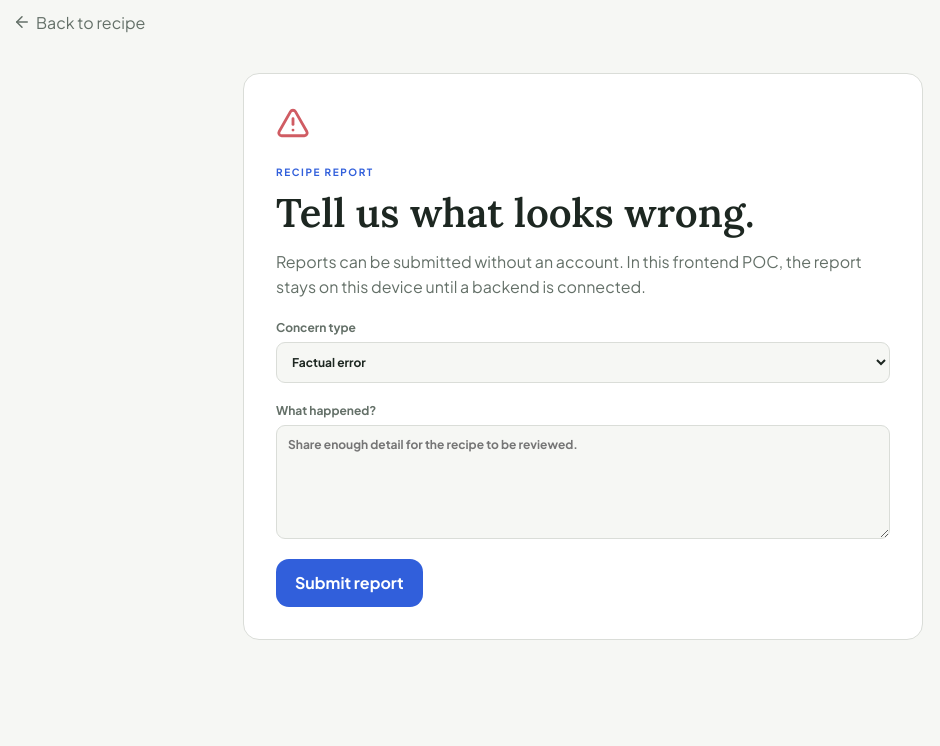
recipe feedback › lets anyone record a factual or safety concern locally
The image size is (940, 746).
Select "Food safety concern" in the dropdown labelled "Concern type" at (583, 362), box [276, 342, 890, 383]
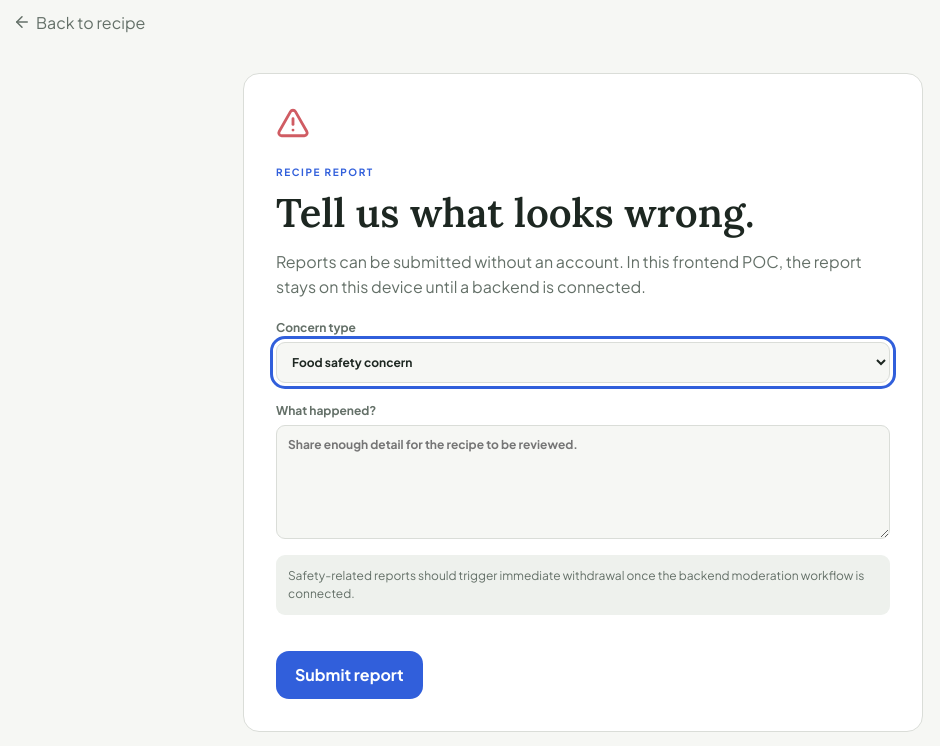
Type "The chicken timing seems too short." into the text box labelled "What happened?" at (583, 482), box [276, 425, 890, 539]
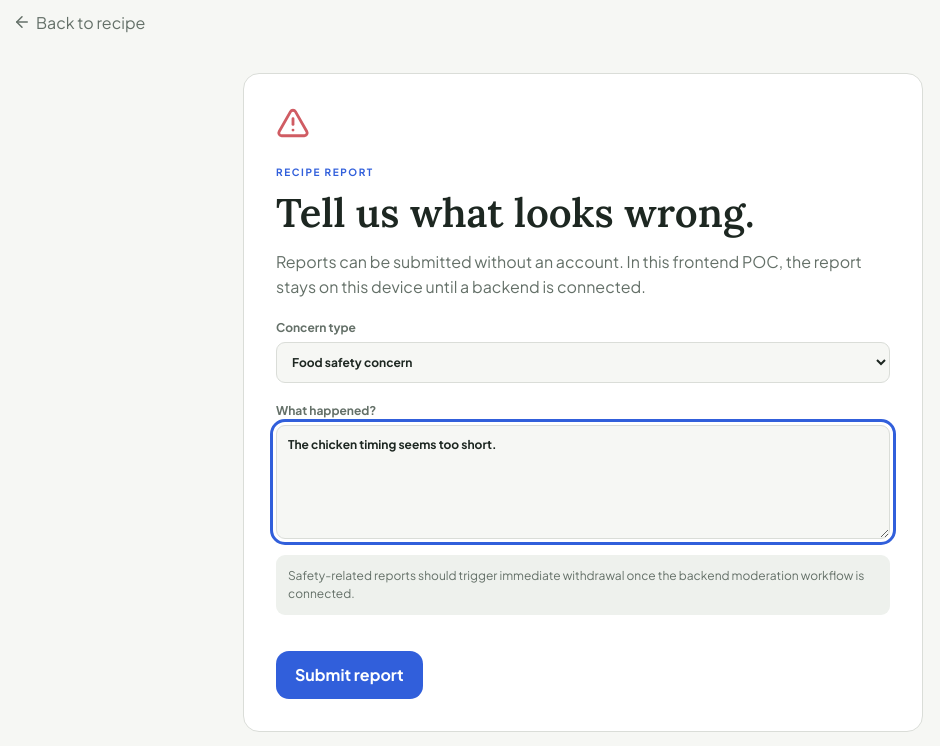
Click the button "Submit report" at (349, 675), box [276, 651, 423, 699]
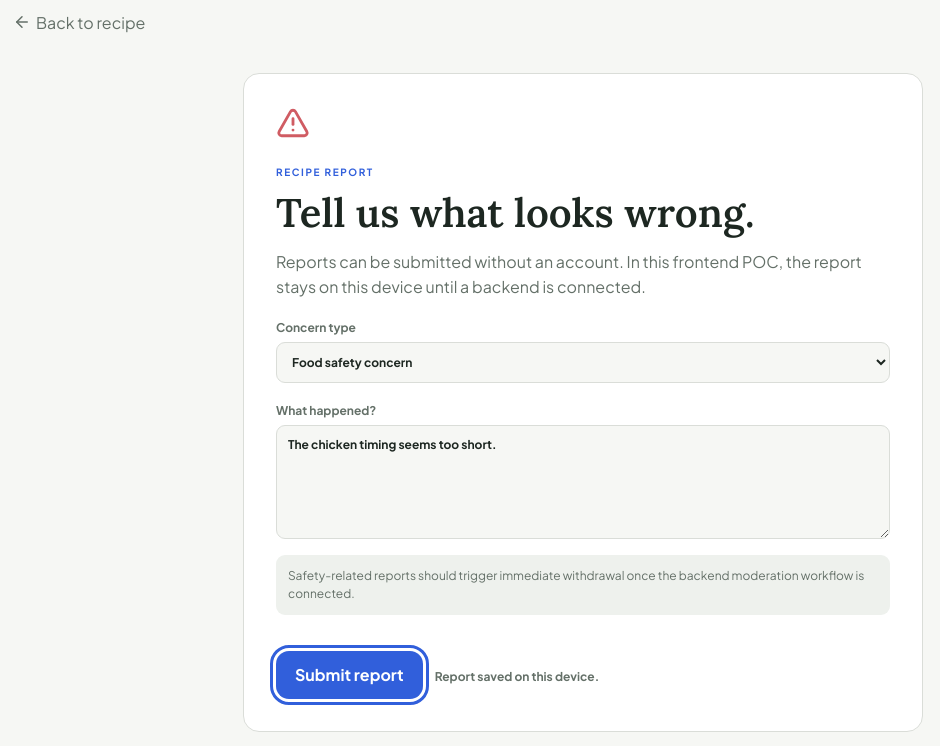
Now the text "Report saved on this device." is shown, box [435, 669, 599, 684]
